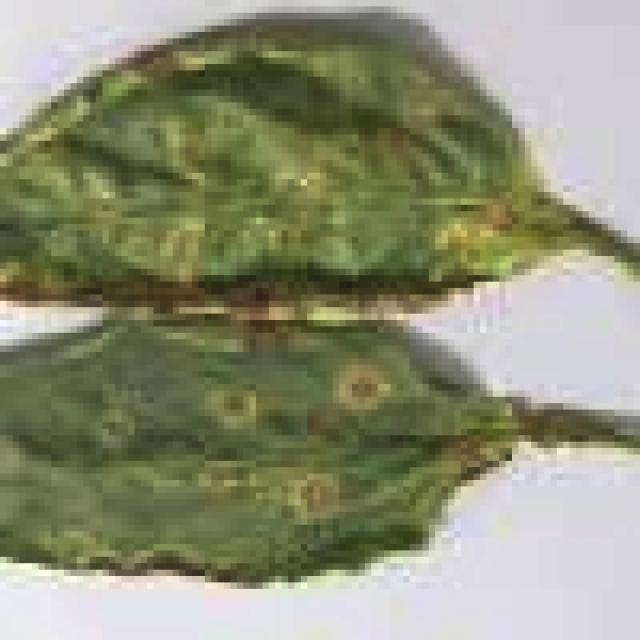Bercak Daun Serkospora: (2, 19, 640, 310), (0, 312, 640, 594)
